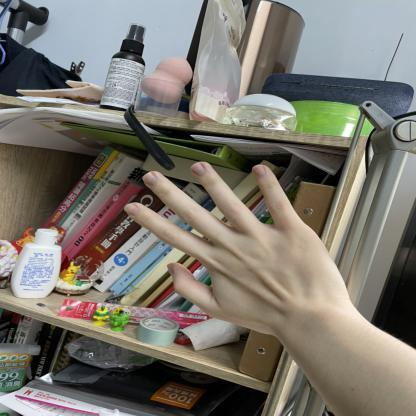bare_hand: (110, 152, 361, 346)
